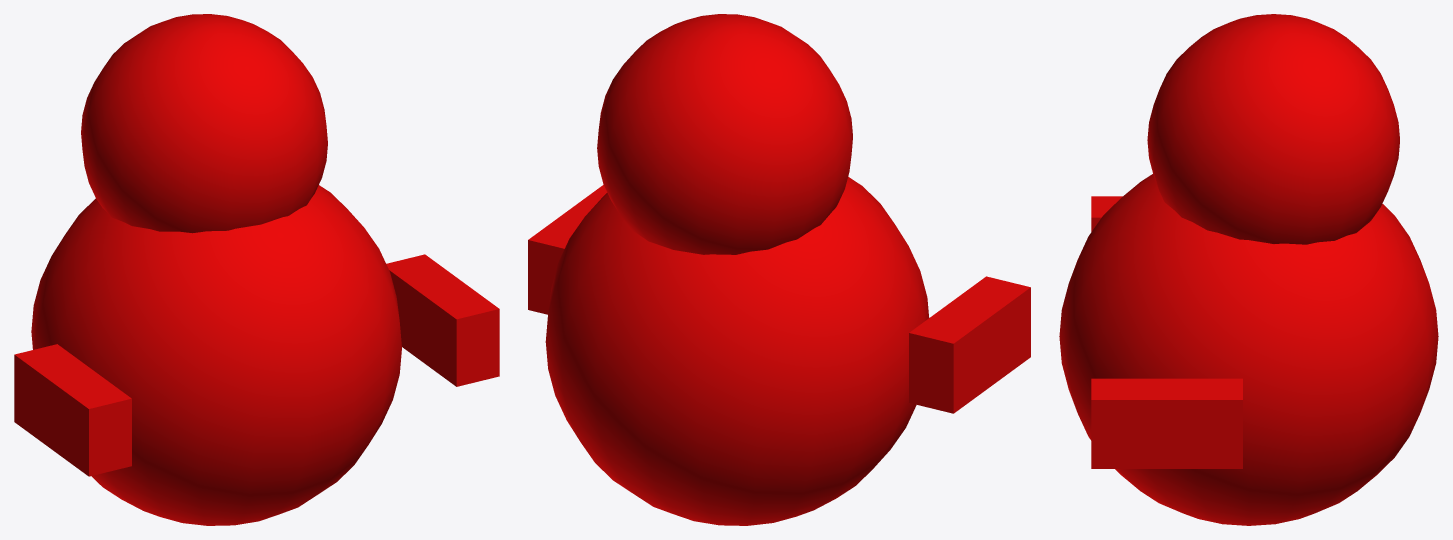
File: Chef.fbx
3 views of the same model, side by side, from view 1: azimuth 30°, elevation 25°; view 2: azimuth 150°, elevation 25°; view 3: azimuth 270°, elevation 25° (orthographic). The views are drawn at different scales.
Visible parts, largest first — view 1: Body, Head, Hand; view 2: Body, Head, Hand; view 3: Body, Head, Hand.
Part boxes in pixels (x1,y1,x2,y2): Body: (31,185,401,525); Head: (81,14,327,233); Hand: (14,254,499,476); Body: (545,177,929,525); Head: (597,14,852,254); Hand: (528,185,1030,413); Body: (1059,174,1438,525); Head: (1147,14,1399,244); Hand: (1091,196,1242,468).
Bounding box in the file's own units: 95.44 × 105 × 75.
